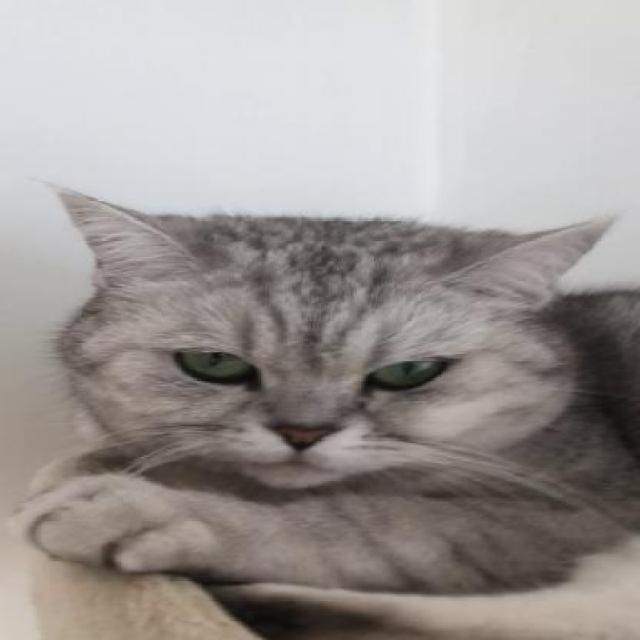cat-face: (58, 206, 607, 486)
